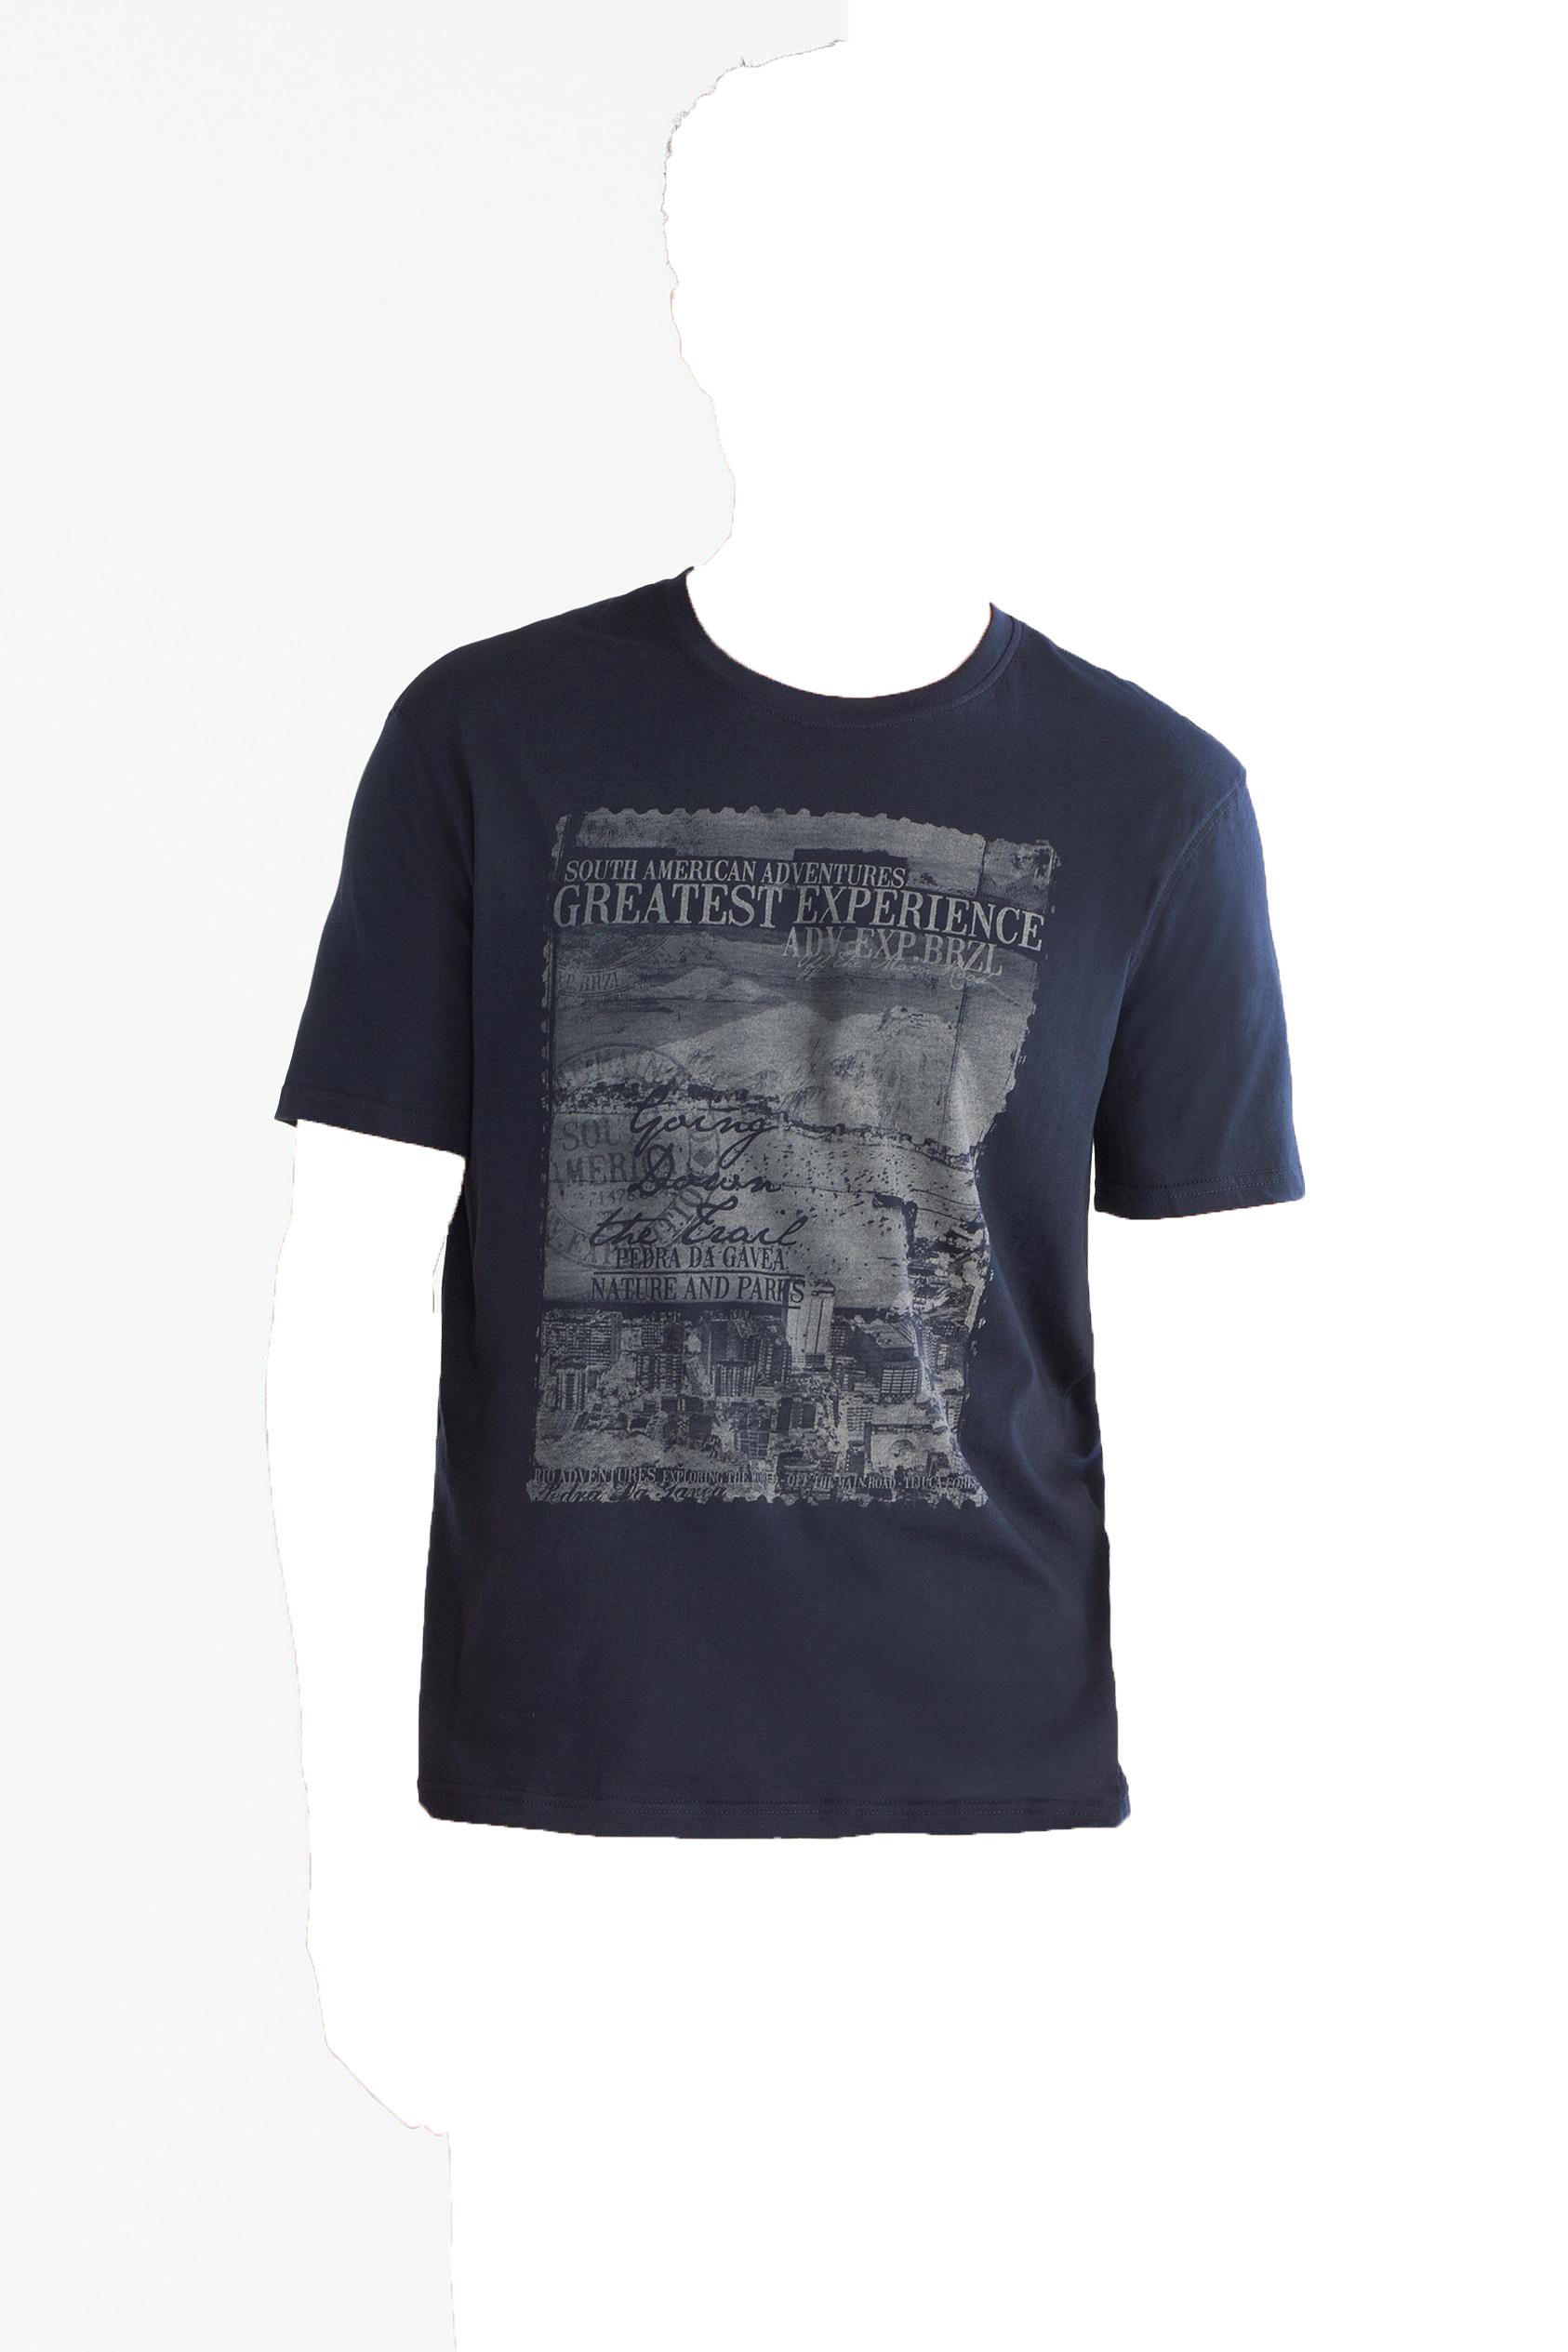teeshirt: (252, 549, 1347, 1876)
